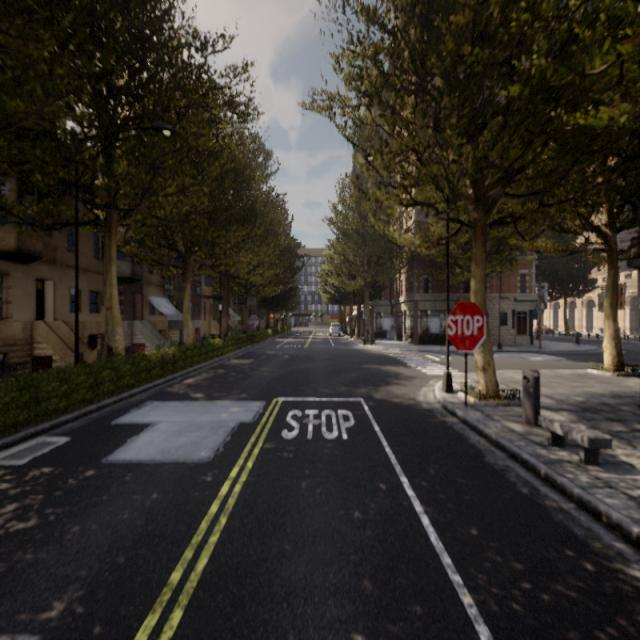stop sign: (443, 298, 487, 354), (446, 312, 484, 337)
